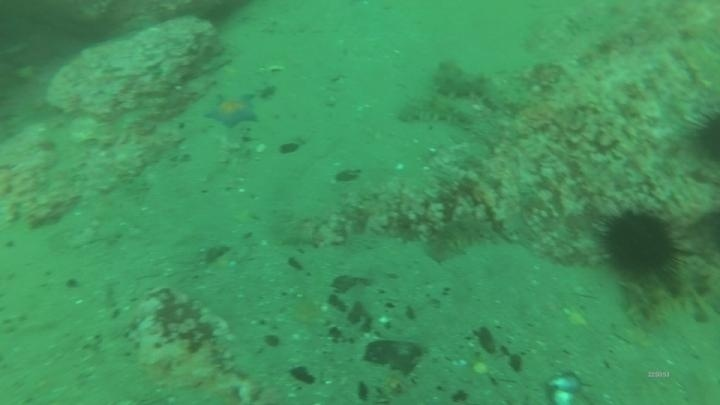echinus: (595, 203, 687, 284), (687, 105, 720, 166)
holothurian: (618, 260, 718, 330), (429, 59, 512, 112), (423, 210, 500, 264), (395, 91, 478, 129)
starfish: (202, 90, 260, 130)
